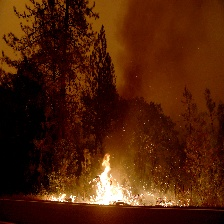fire: (41, 155, 190, 207)
smoke: (108, 1, 224, 101)
